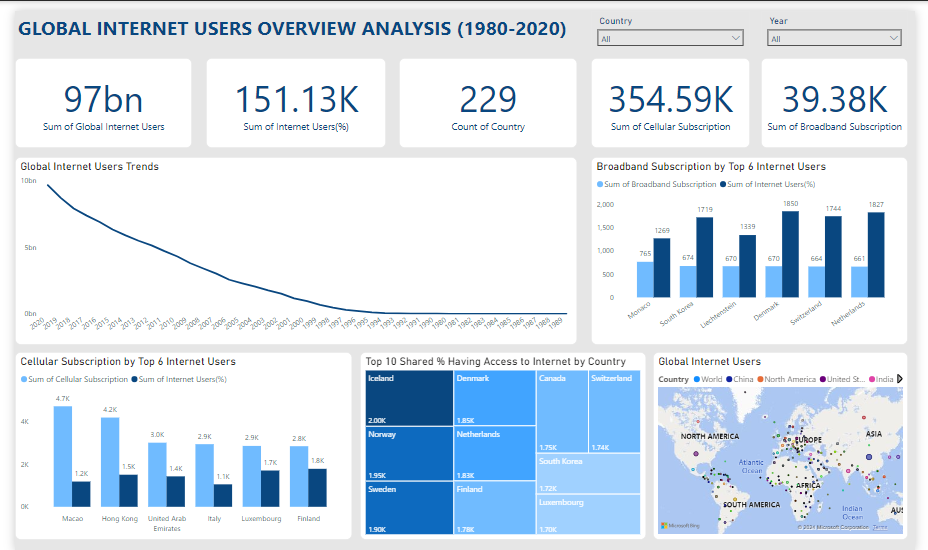

Layout of this report page (visuals, bound fields, positions):
{"tool":"powerbi","page":{"name":"Page 1","canvas":[1500,900],"ordinal":0},"visuals":[{"type":"lineChart","title":"Global Internet Users Trends","fields":{"Category":["Final.Year"],"Y":["Sum(Final.No. of Internet Users)"]},"box":[0,243.3,936.7,313.3],"z":0},{"type":"clusteredColumnChart","title":"Cellular Subscription by Top 6 Country","fields":{"Category":["Final.Country"],"Y":["Sum(Final.Cellular Subscription)","Sum(Final.Internet Users(%))"]},"box":[0,568.3,561.7,313.3],"z":1000},{"type":"textbox","box":[0,0,1488.3,90],"z":2000},{"type":"clusteredColumnChart","title":"Broadband Subscription by Top 6 Country","fields":{"Y":["Sum(Final.Broadband Subscription)","Sum(Final.Internet Users(%))"],"Category":["Final.Country"]},"box":[960,243.3,528.3,313.3],"z":3000},{"type":"map","title":"Global Internet Users","fields":{"Category":["Final.Country"],"Size":["Sum(Final.No. of Internet Users)"],"Series":["Final.Country"]},"box":[1063.3,568.3,425,313.3],"z":4000},{"type":"treemap","title":"Top 10 Shared % Having Access to Internet by Country","fields":{"Group":["Final.Country"],"Values":["Sum(Final.Internet Users(%))"]},"box":[575,568.3,476.7,313.3],"z":5000},{"type":"card","fields":{"Values":["Sum(Final.No. of Internet Users)"]},"box":[0,78.3,295,150],"z":6000},{"type":"card","fields":{"Values":["Sum(Final.Internet Users(%))"]},"box":[318.3,78.3,300,150],"z":7000},{"type":"card","fields":{"Values":["Count(Final.Country)"]},"box":[640,78.3,296.7,150],"z":8000},{"type":"card","fields":{"Values":["Sum(Final.Cellular Subscription)"]},"box":[960,78.3,265,150],"z":9000},{"type":"card","fields":{"Values":["Sum(Final.Broadband Subscription)"]},"box":[1243.3,78.3,245,150],"z":10000},{"type":"slicer","fields":{"Values":["Final.Country"]},"box":[960,0,265,61.7],"z":11000},{"type":"slicer","fields":{"Values":["Final.Year"]},"box":[1243.3,0,245,63.3],"z":12000}]}

Visuals, with their boxes in screenshot pixels (x1, y1, x2, y2), scaled from the page's 1500x900 canvas onto the 928x550 screenshot:
"Global Internet Users Trends" lineChart: left=0, top=149, right=580, bottom=340
"Cellular Subscription by Top 6 Country" clusteredColumnChart: left=0, top=347, right=348, bottom=539
textbox: left=0, top=0, right=921, bottom=55
"Broadband Subscription by Top 6 Country" clusteredColumnChart: left=594, top=149, right=921, bottom=340
"Global Internet Users" map: left=658, top=347, right=921, bottom=539
"Top 10 Shared % Having Access to Internet by Country" treemap: left=356, top=347, right=651, bottom=539
card - Sum(Final.No. of Internet Users): left=0, top=48, right=183, bottom=140
card - Sum(Final.Internet Users(%)): left=197, top=48, right=383, bottom=140
card - Count(Final.Country): left=396, top=48, right=580, bottom=140
card - Sum(Final.Cellular Subscription): left=594, top=48, right=758, bottom=140
card - Sum(Final.Broadband Subscription): left=769, top=48, right=921, bottom=140
slicer - Final.Country: left=594, top=0, right=758, bottom=38
slicer - Final.Year: left=769, top=0, right=921, bottom=39
